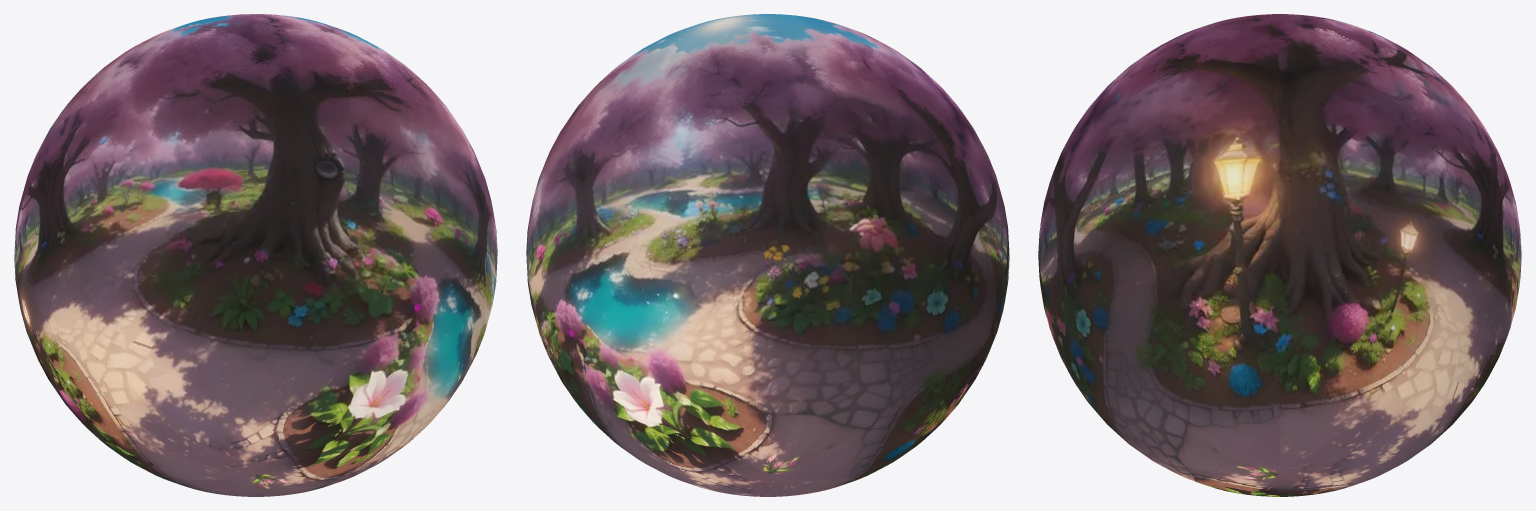
The model's file is free_-_skybox_fairy_forest_day.glb.
3 views of the same model, side by side, from view 1: azimuth 30°, elevation 25°; view 2: azimuth 150°, elevation 25°; view 3: azimuth 270°, elevation 25° (orthographic).
Visible parts, largest first — view 1: Sphere__0; view 2: Sphere__0; view 3: Sphere__0.
Part boxes in pixels (x1=…): Sphere__0: x1=14, y1=14, x2=497, y2=496; Sphere__0: x1=526, y1=14, x2=1009, y2=496; Sphere__0: x1=1038, y1=14, x2=1521, y2=496.
Size of the model in its own units: 1000 by 1000 by 1000.
1 material, 1 textured.
